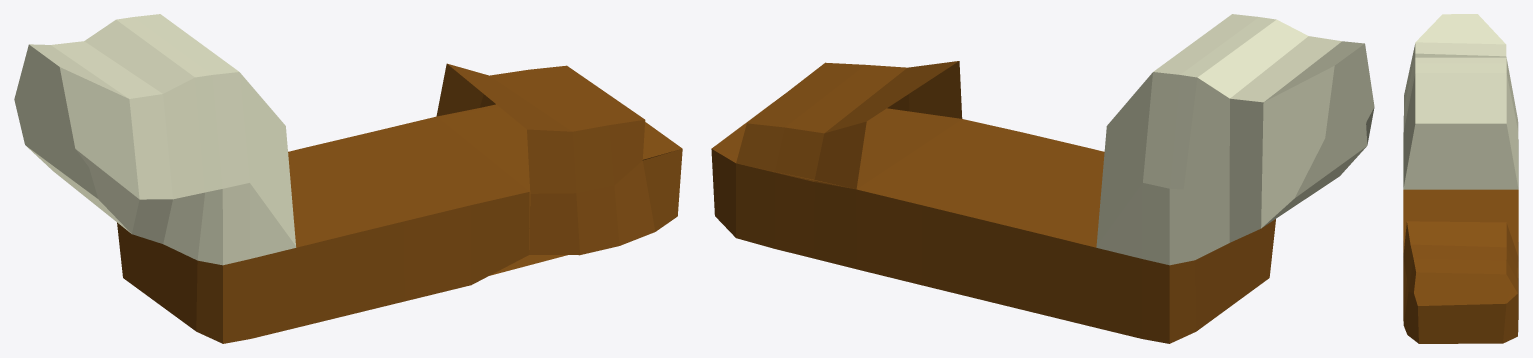
File: BootsofHermese.fbx
3 renders of one model, left to right at view 1: azimuth 30°, elevation 25°; view 2: azimuth 150°, elevation 25°; view 3: azimuth 270°, elevation 25°, orthographic. The views are drawn at different scales.
Visible parts, largest first — view 1: Cube; view 2: Cube; view 3: Cube.
Part boxes in pixels (bbox=[...]): Cube: bbox=[14, 14, 682, 343]; Cube: bbox=[711, 14, 1374, 343]; Cube: bbox=[1403, 14, 1518, 343].
Size of the model in its own units: 455 by 206 by 131.
